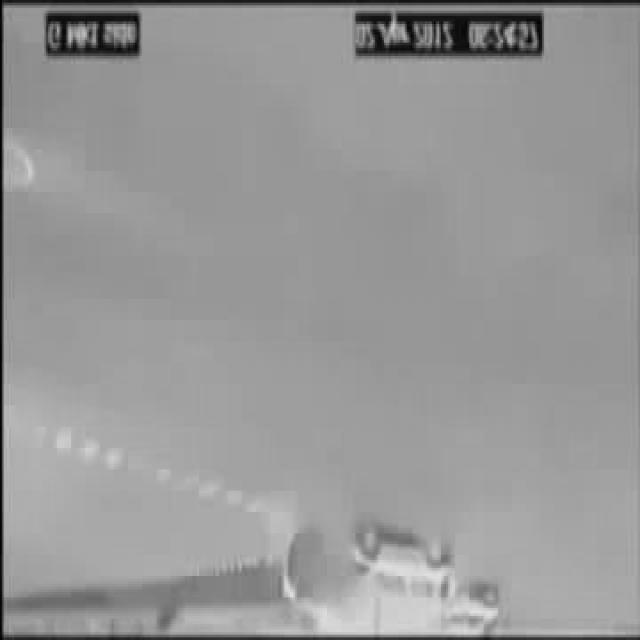severe: (279, 528, 459, 619)
